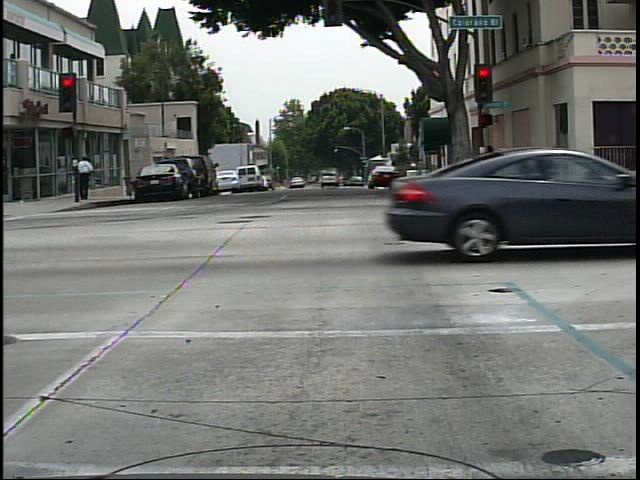person: (476, 136, 506, 193), (80, 147, 98, 200)
